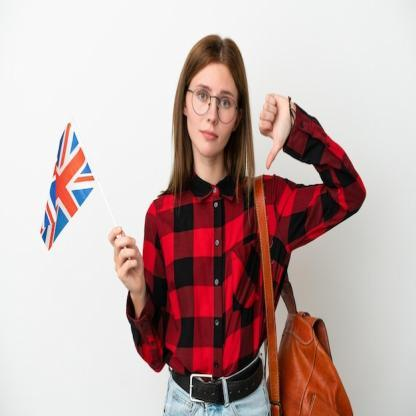thumb_down: (256, 90, 294, 172)
